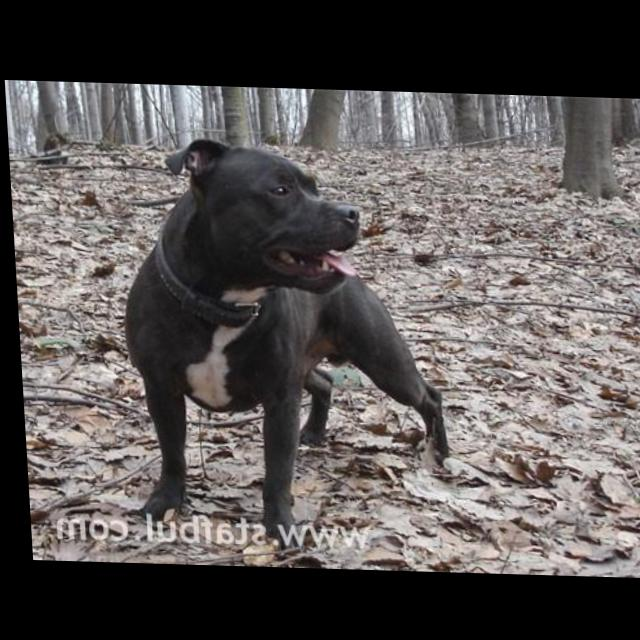staffford: (112, 134, 452, 548)
